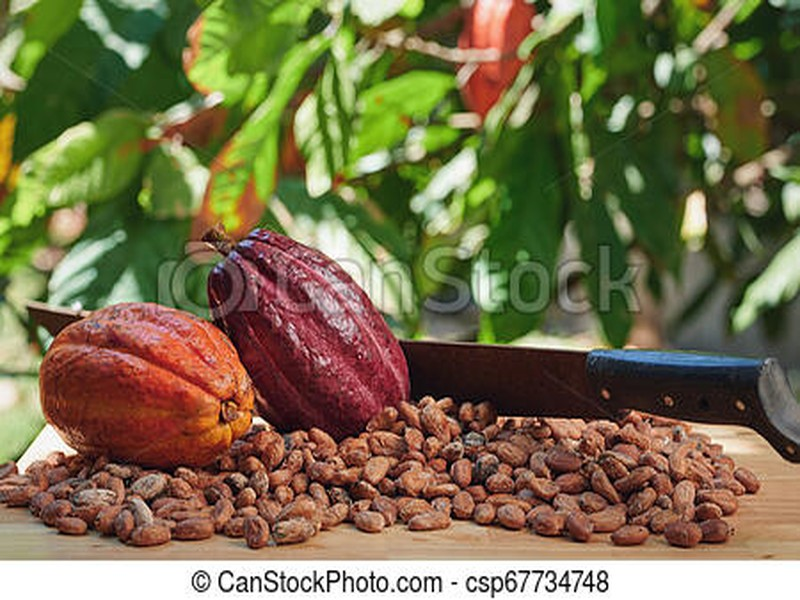Cacaopod: (198, 224, 414, 428), (34, 300, 257, 471)
